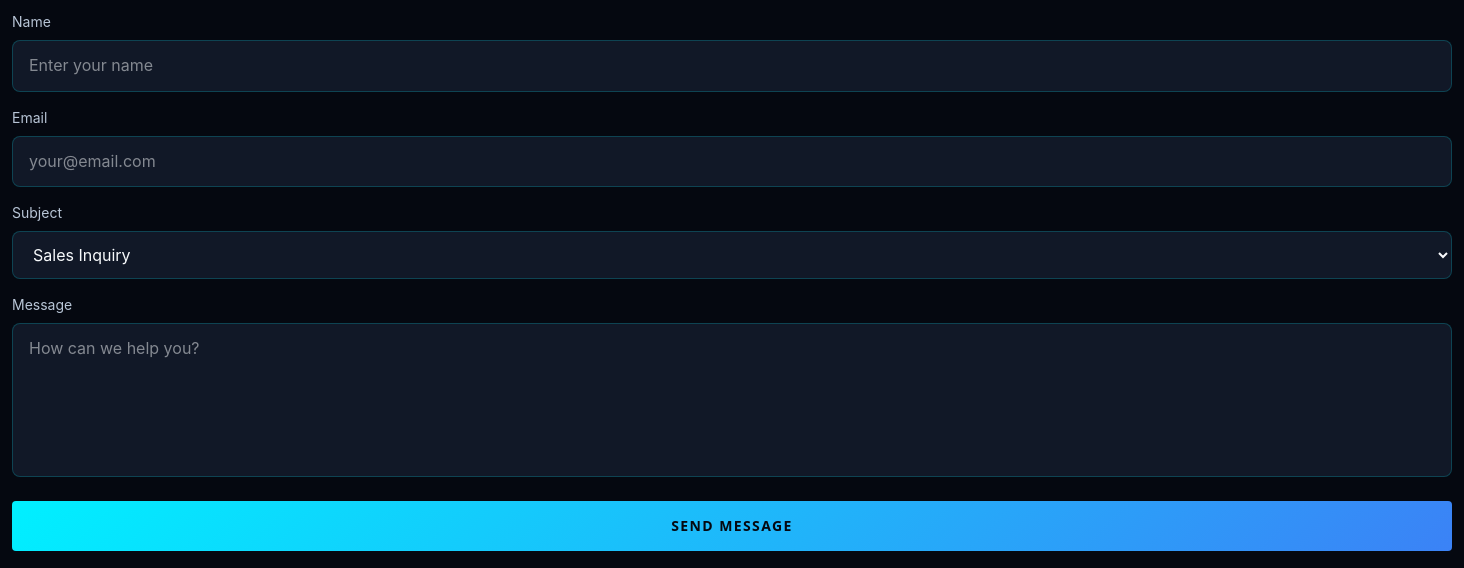
it: ContactForm Component › shows loading state on submit
// Fill in required fields
In the field labelled "Name": coordinates (732, 66) [12,40,1452,92], type "John Doe"
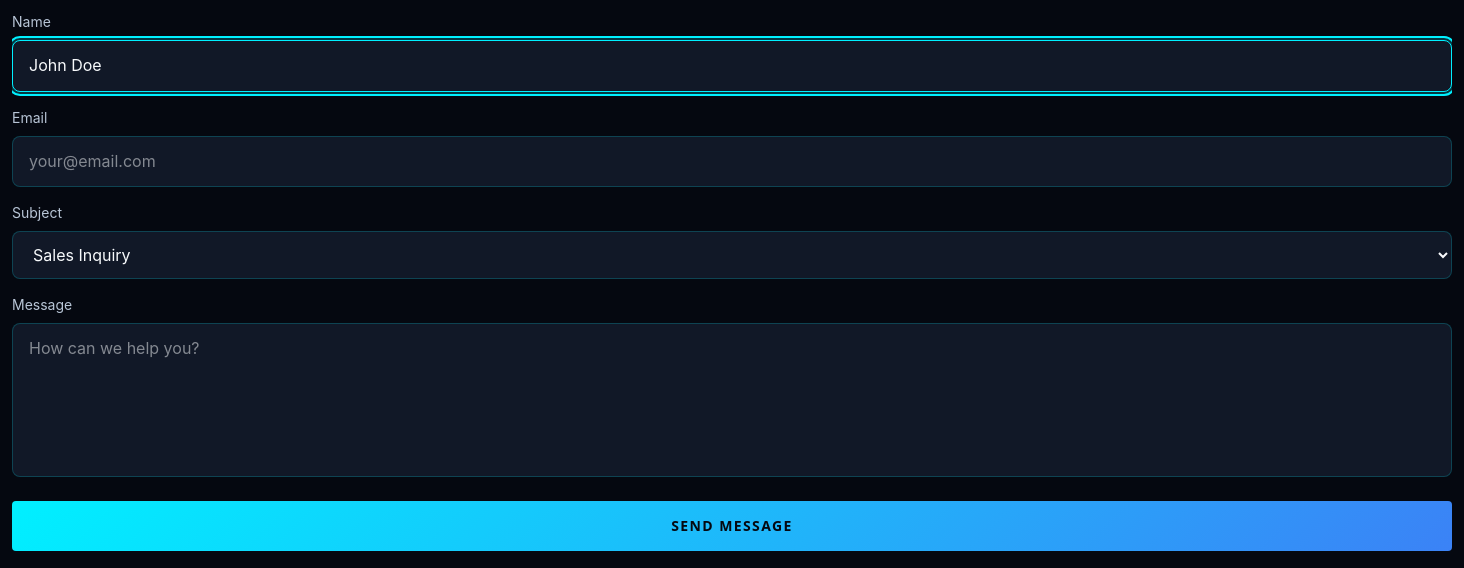
In the field labelled "Email": coordinates (732, 161) [12,136,1452,187], type "john@example.com"
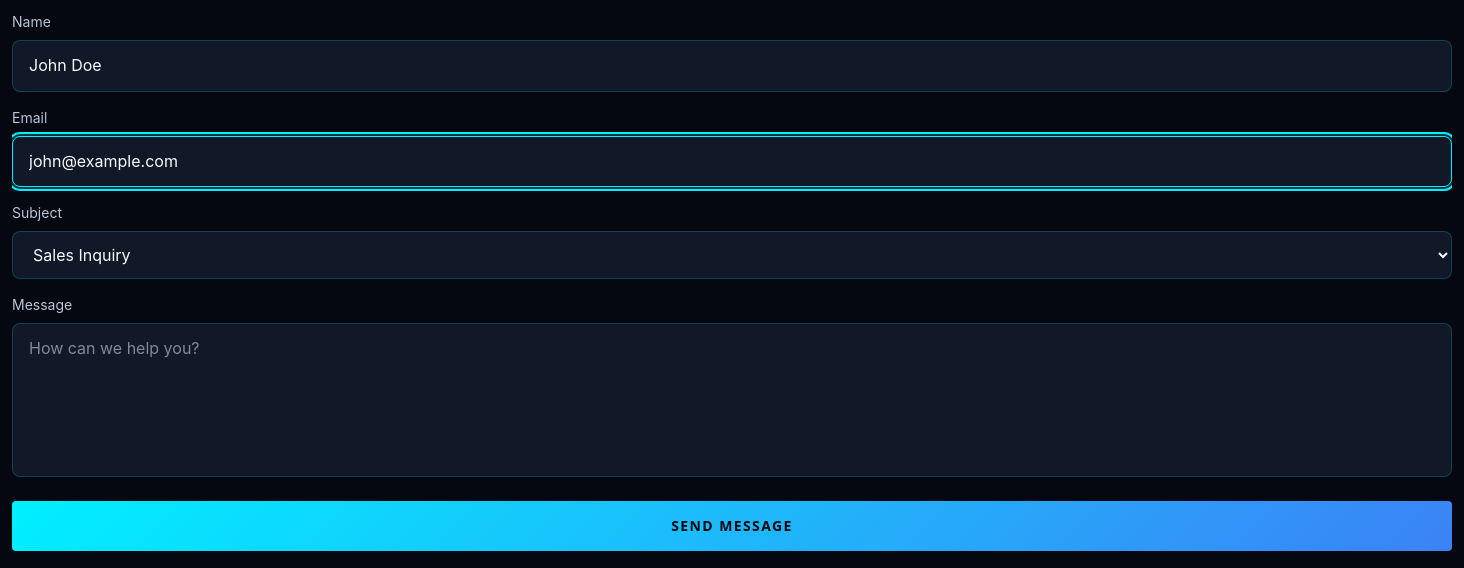
In the text box labelled "Message": coordinates (732, 400) [12,323,1452,477], type "Test message"
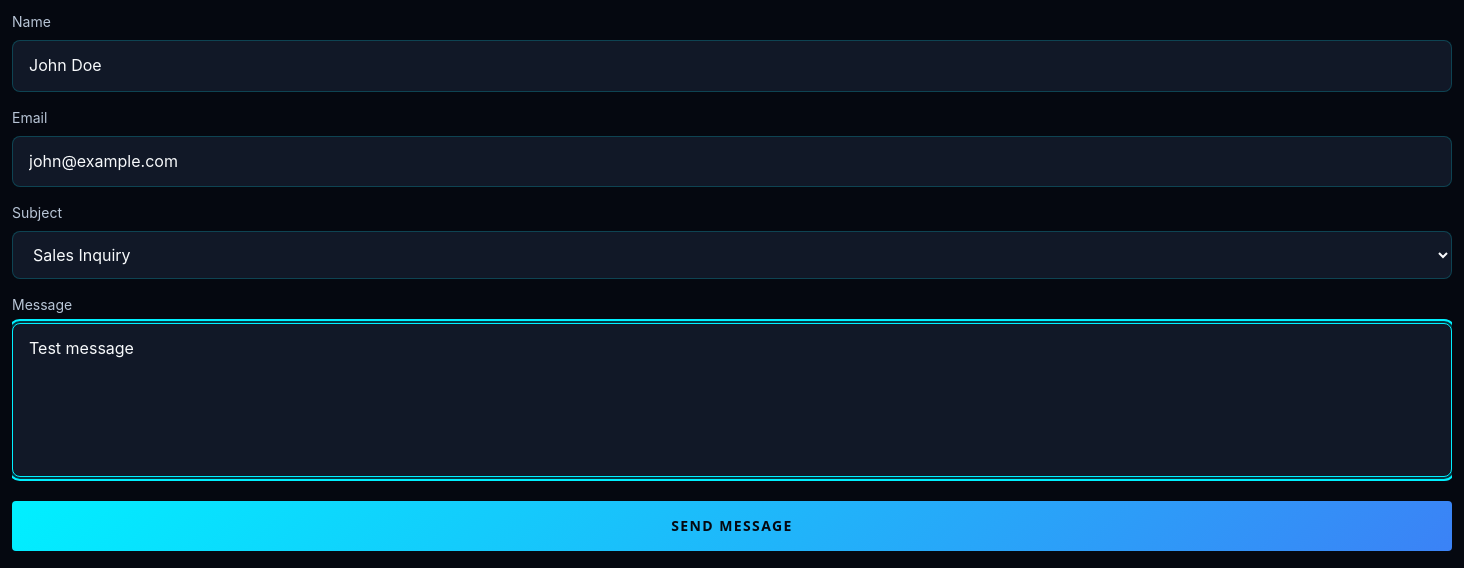
Click the button "Send Message": coordinates (732, 526) [12,501,1452,551]
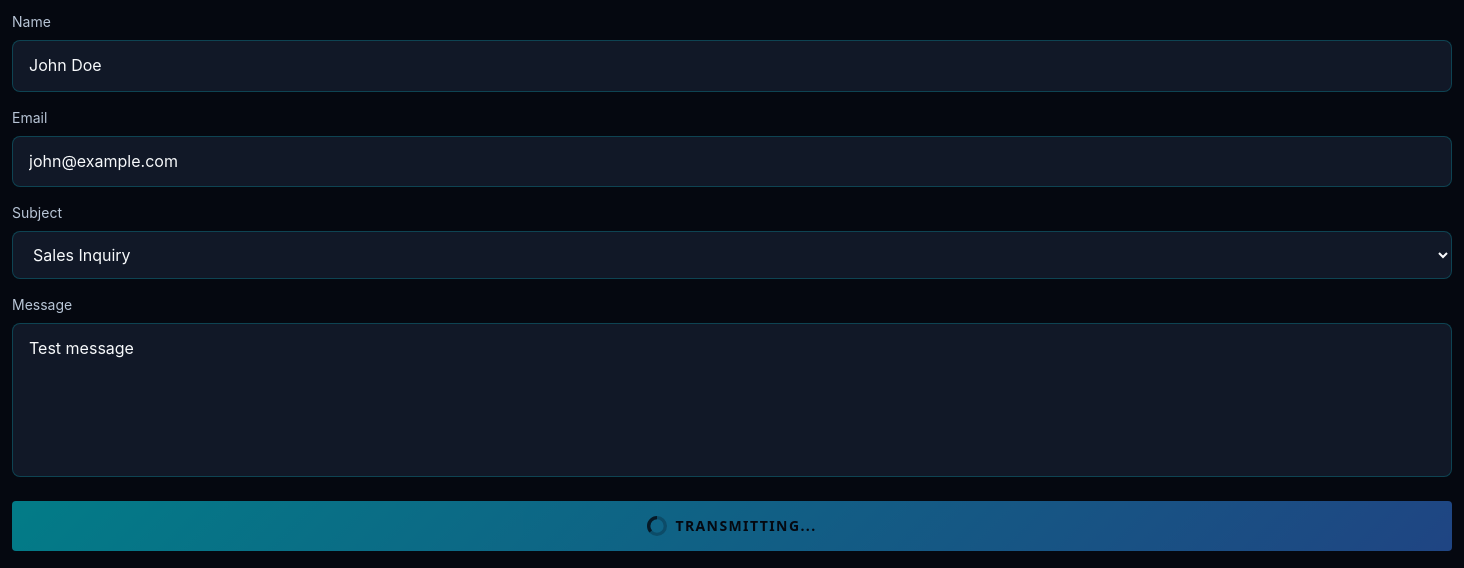
Expected: the button "Transmitting..." is shown, [12,501,1452,551]
